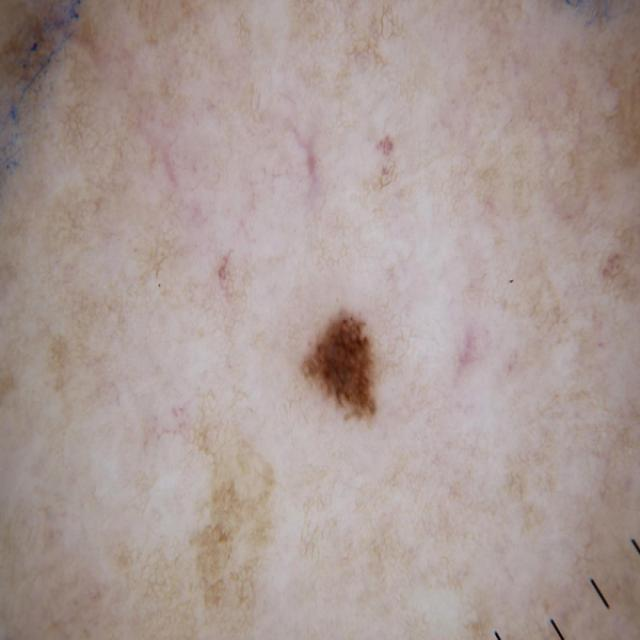NV: (299, 309, 377, 425)
